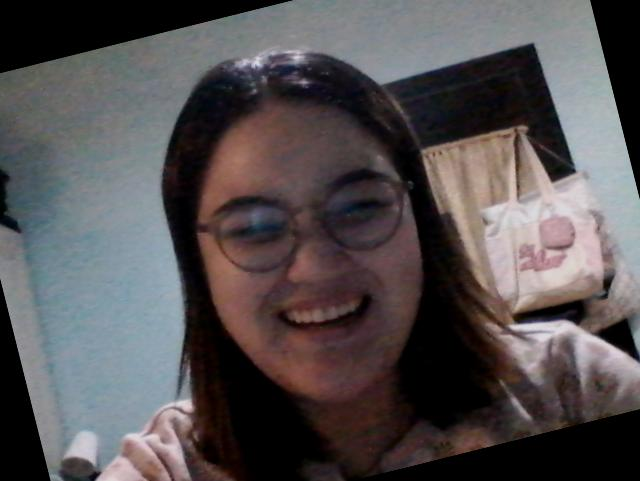senang: (165, 73, 468, 424)
